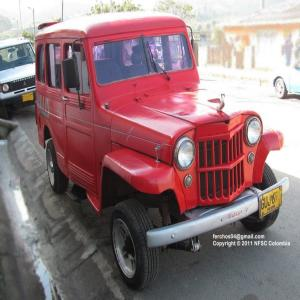Vehicle-registration-plate: (260, 187, 283, 219)
